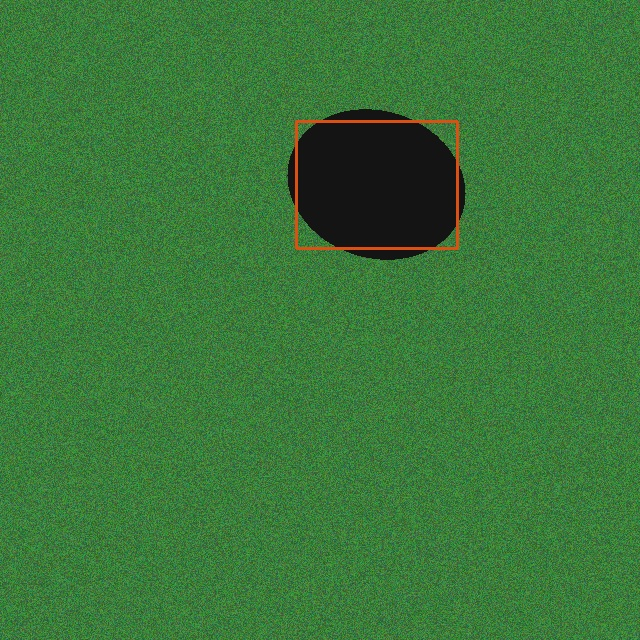blister beetle: (286, 111, 467, 258)
